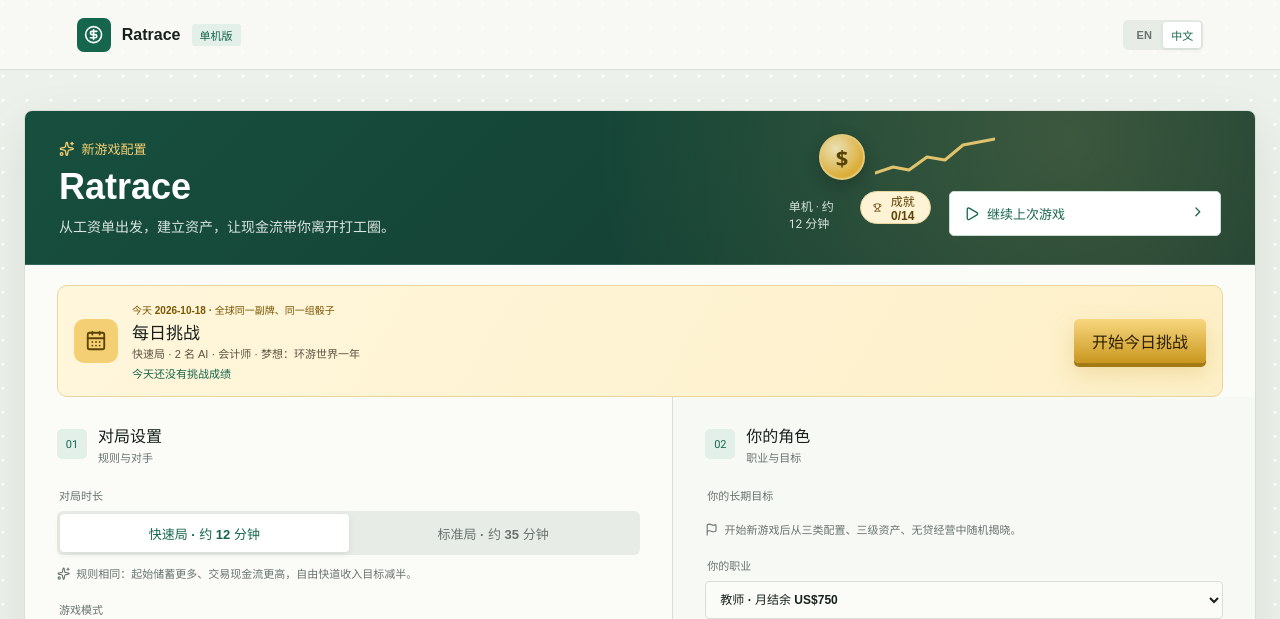
Test: cashflow app › explains Fast Track expansion and risk management with current values
Click the button "继续上次游戏": (1026, 215) [948,191,1221,236]
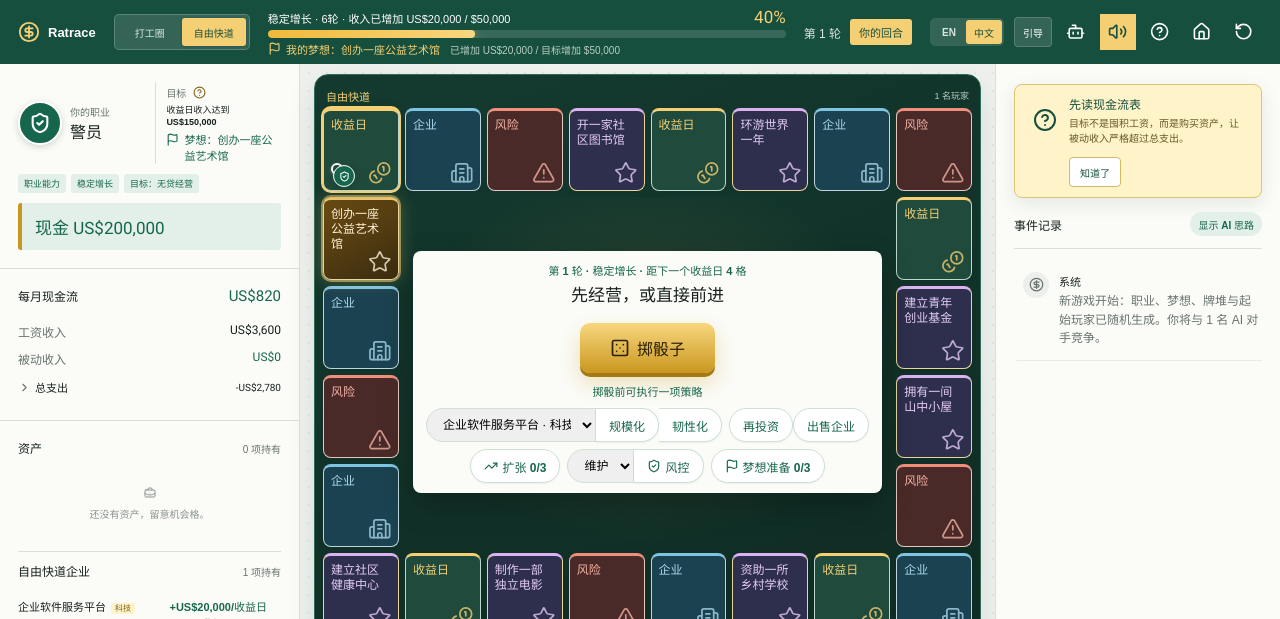
Result: the dropdown named "选择自由快道企业" shows "企业软件服务平台 · 科技 · US$20,000" at [426,408,596,442]
Result: the button "规模化" is enabled at [596,408,659,442]
Result: the button "韧性化" is enabled at [659,408,722,442]
Select "诉讼" in the dropdown named "选择自由快道保险": (601, 466) [568,449,634,483]
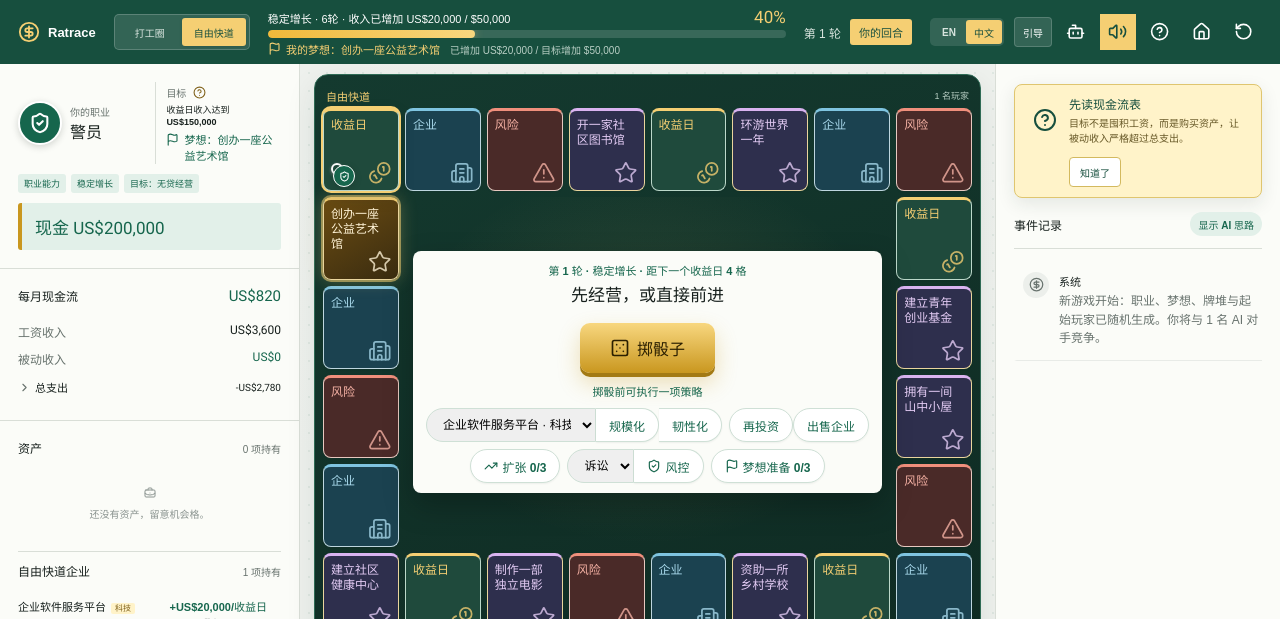
Click the button "风控": (669, 466) [634,449,704,483]
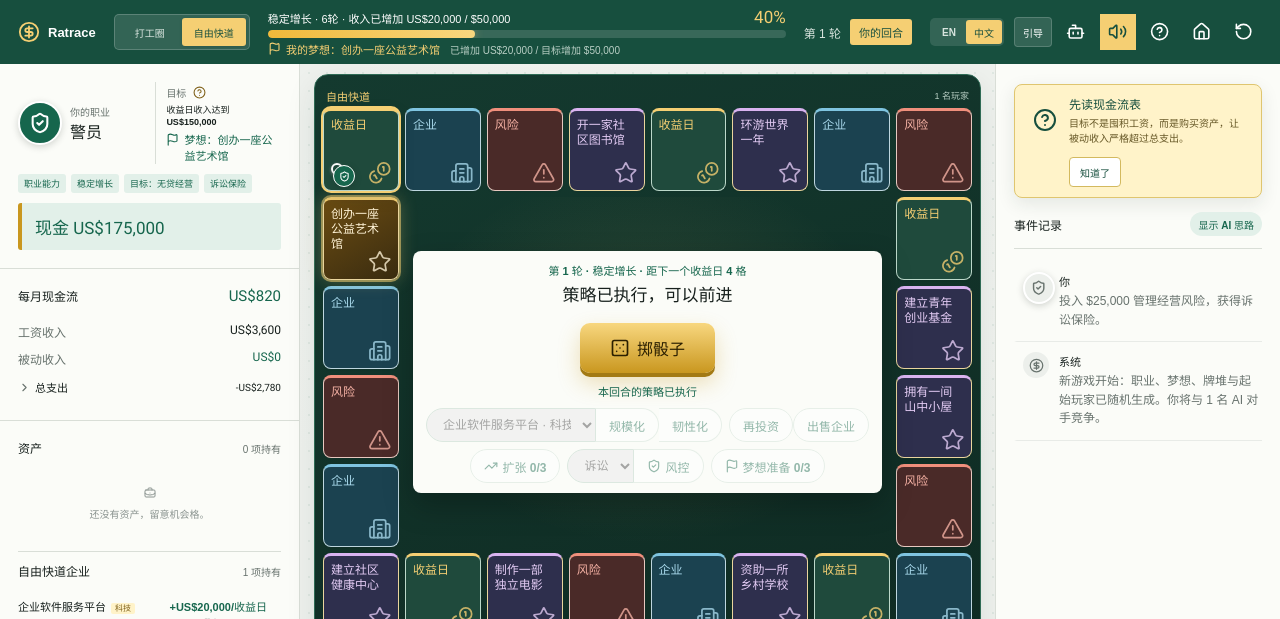
Result: the text "投入 $25,000 管理经营风险，获得诉讼保险。" is shown at [1059,292,1262,329]
